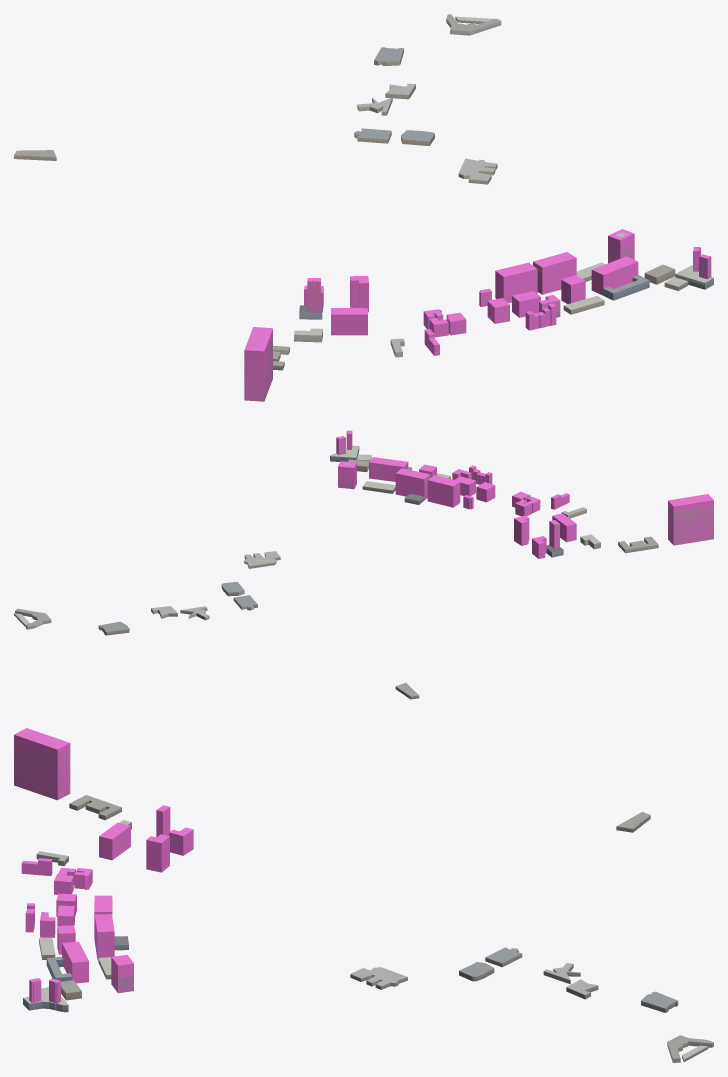
File: bld_9_2.fbx
3 renders of one model, top to bottom at view 1: azimuth 30°, elevation 25°; view 2: azimuth 150°, elevation 25°; view 3: azimuth 270°, elevation 25°, orthographic. The views are drawn at different scales.
Visible parts, largest first — view 1: bld_9_2_COL, bld_9_2_LOD0; view 2: bld_9_2_COL, bld_9_2_LOD0; view 3: bld_9_2_COL, bld_9_2_LOD0.
Part boxes in pixels (x1,y1,x2,y2): bld_9_2_COL: (244, 229, 711, 401); bld_9_2_LOD0: (14, 14, 713, 401); bld_9_2_COL: (336, 430, 713, 558); bld_9_2_LOD0: (14, 432, 713, 699); bld_9_2_COL: (14, 728, 193, 1010); bld_9_2_LOD0: (14, 731, 713, 1062).
Size of what is drawn, in the model's own units: 1768 by 147 by 1840.
